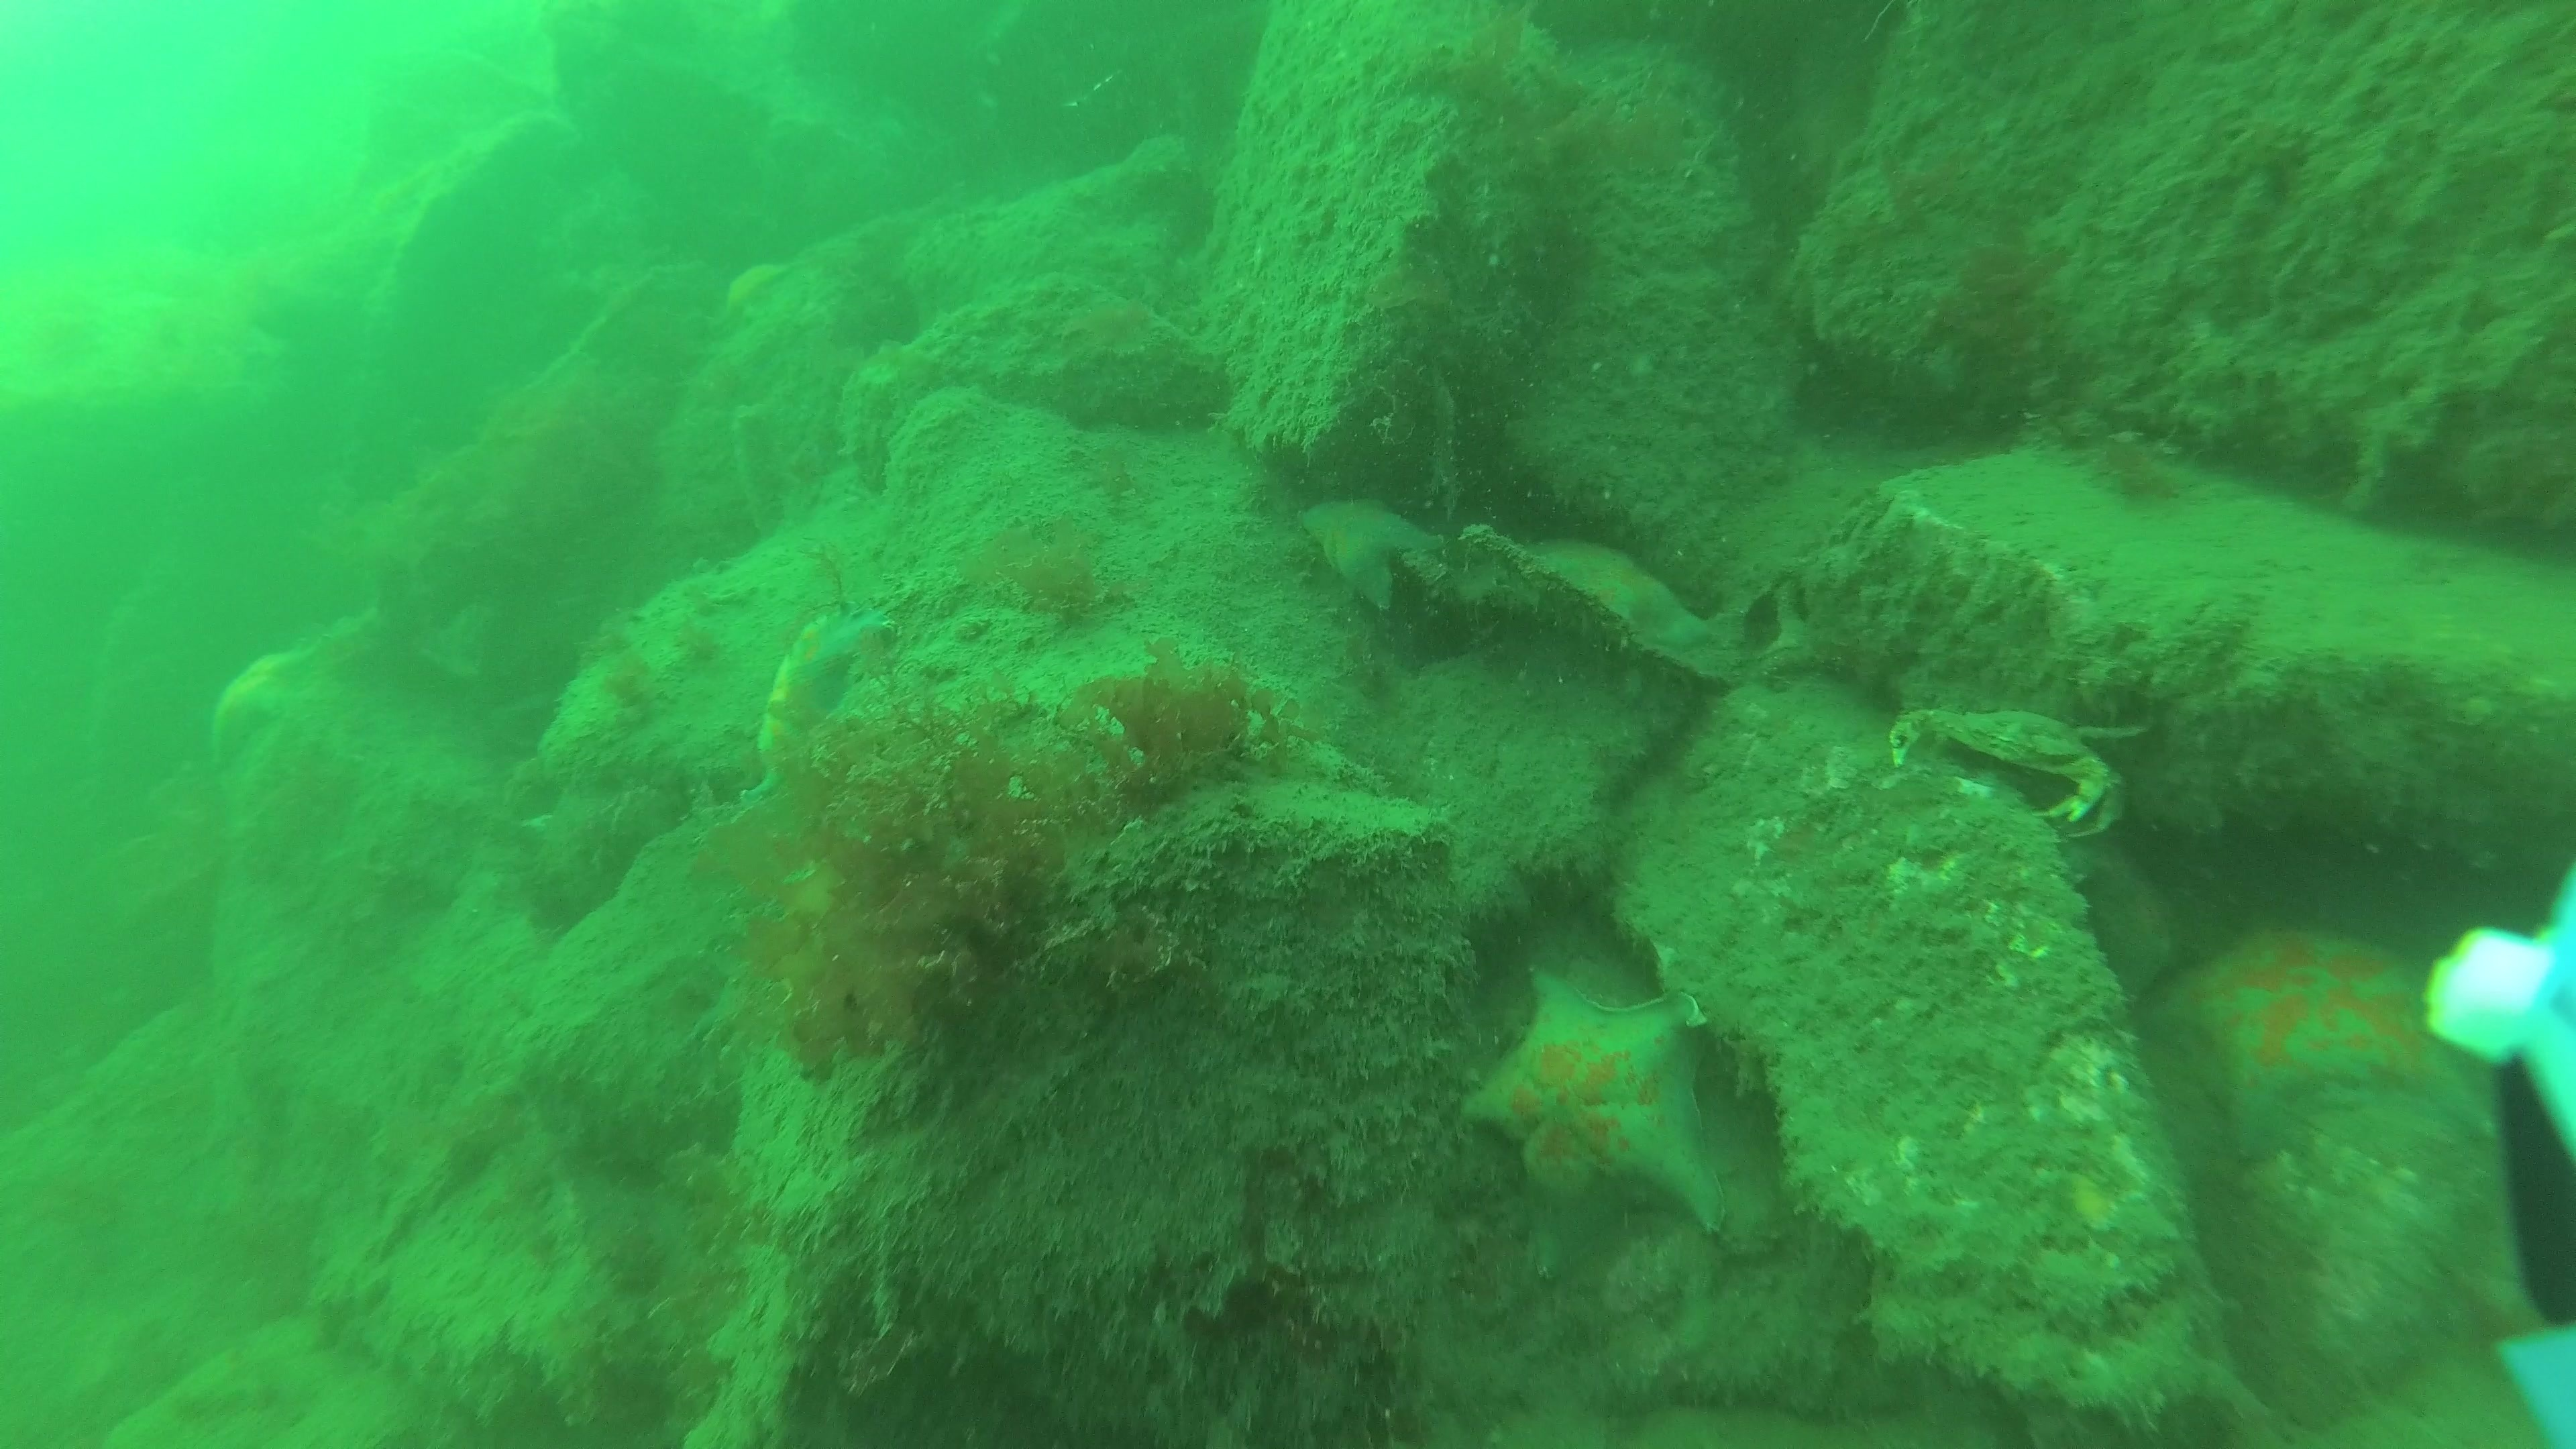starfish: (2169, 932, 2502, 1150), (1463, 973, 1732, 1235), (1514, 538, 1737, 686), (755, 607, 897, 794), (1299, 487, 1444, 614)
